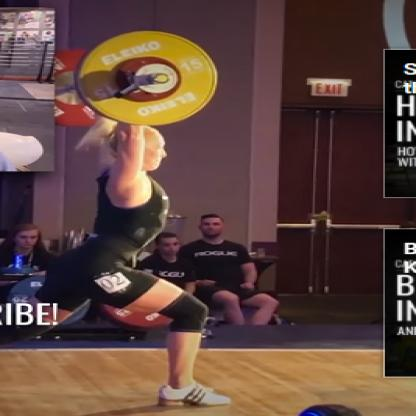Barbell: (71, 23, 230, 137)
